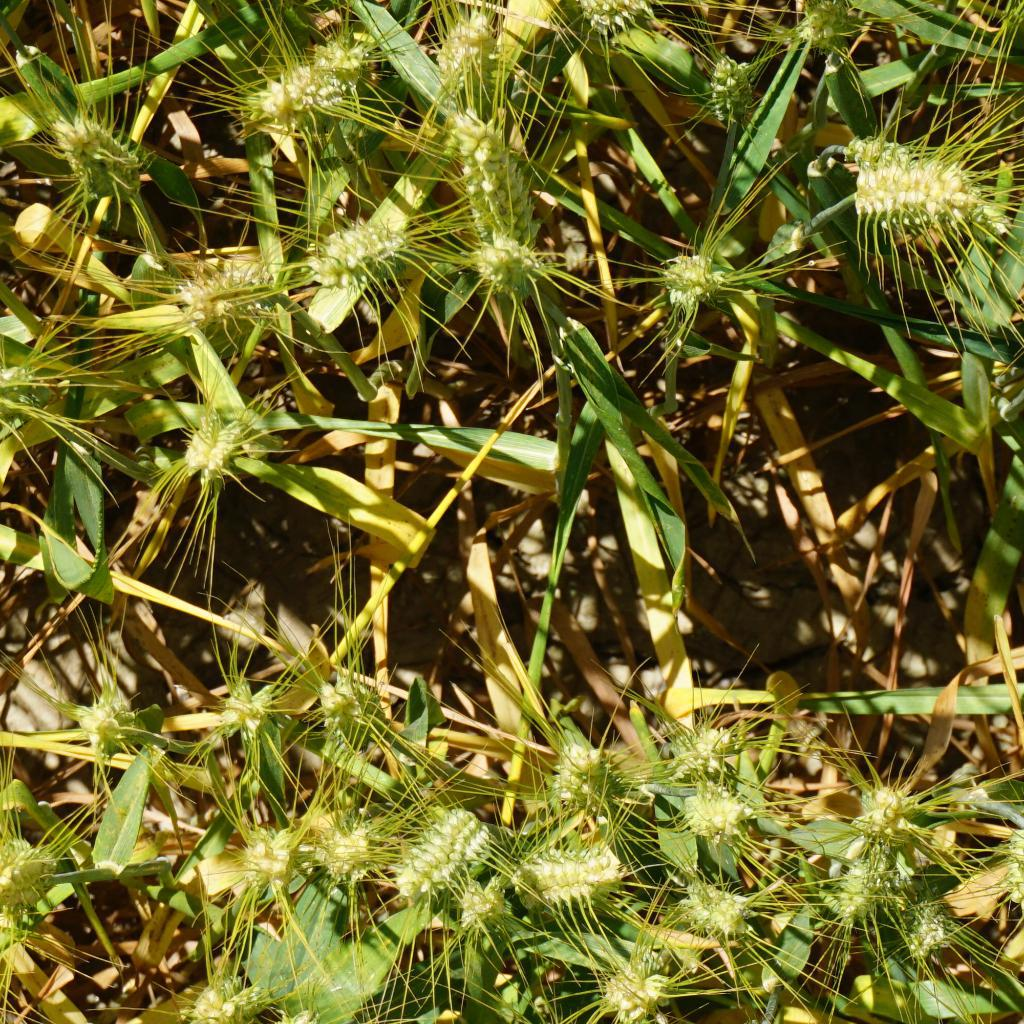0-0: (165, 236, 288, 340), (446, 118, 531, 238), (51, 112, 151, 208), (842, 165, 990, 226), (228, 62, 344, 139), (299, 214, 427, 281), (659, 779, 772, 848), (183, 399, 262, 494), (533, 826, 630, 898), (397, 803, 478, 889), (301, 657, 395, 730), (838, 772, 925, 846), (539, 736, 624, 811), (435, 9, 504, 98), (649, 705, 734, 772), (700, 49, 763, 128), (454, 874, 519, 949), (600, 945, 665, 1019), (72, 681, 134, 758), (468, 228, 541, 293), (218, 671, 285, 740), (314, 807, 372, 886), (687, 880, 761, 941), (647, 240, 714, 303), (234, 815, 293, 882), (0, 830, 49, 909), (177, 974, 253, 1024), (896, 888, 953, 953), (994, 809, 1024, 931), (842, 125, 921, 163), (791, 2, 844, 43), (0, 364, 27, 429), (683, 1010, 777, 1024), (256, 1010, 336, 1024)
